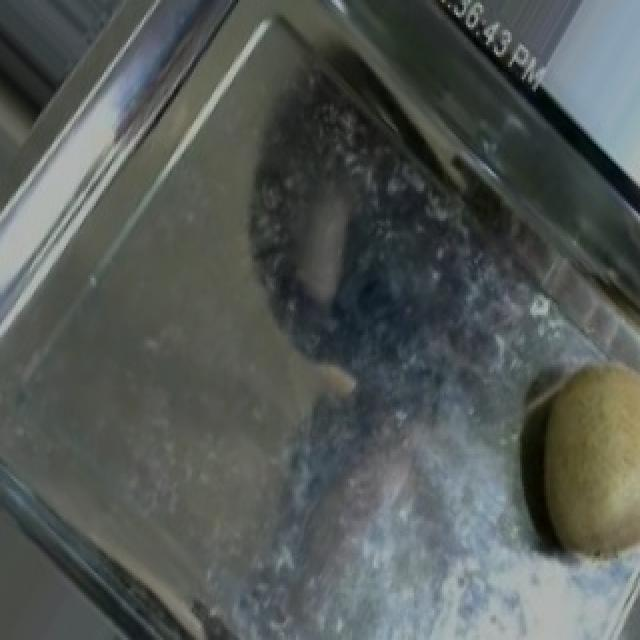Fruit: (488, 330, 640, 593)
